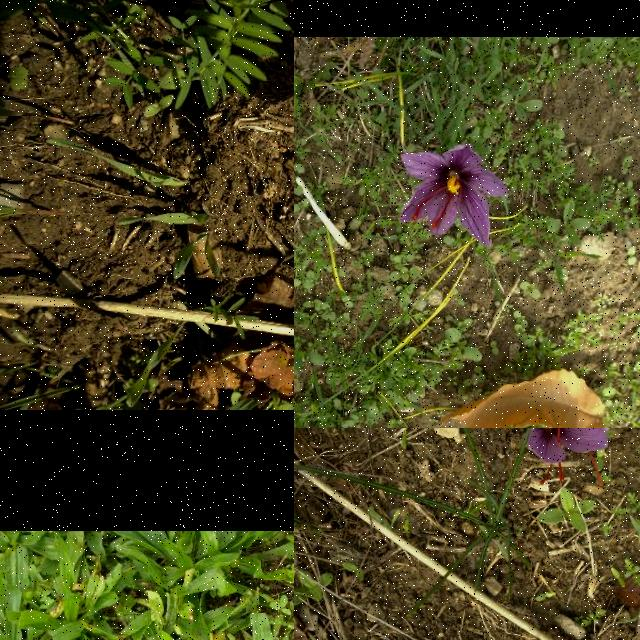flower: (398, 144, 508, 248), (499, 428, 622, 485)
